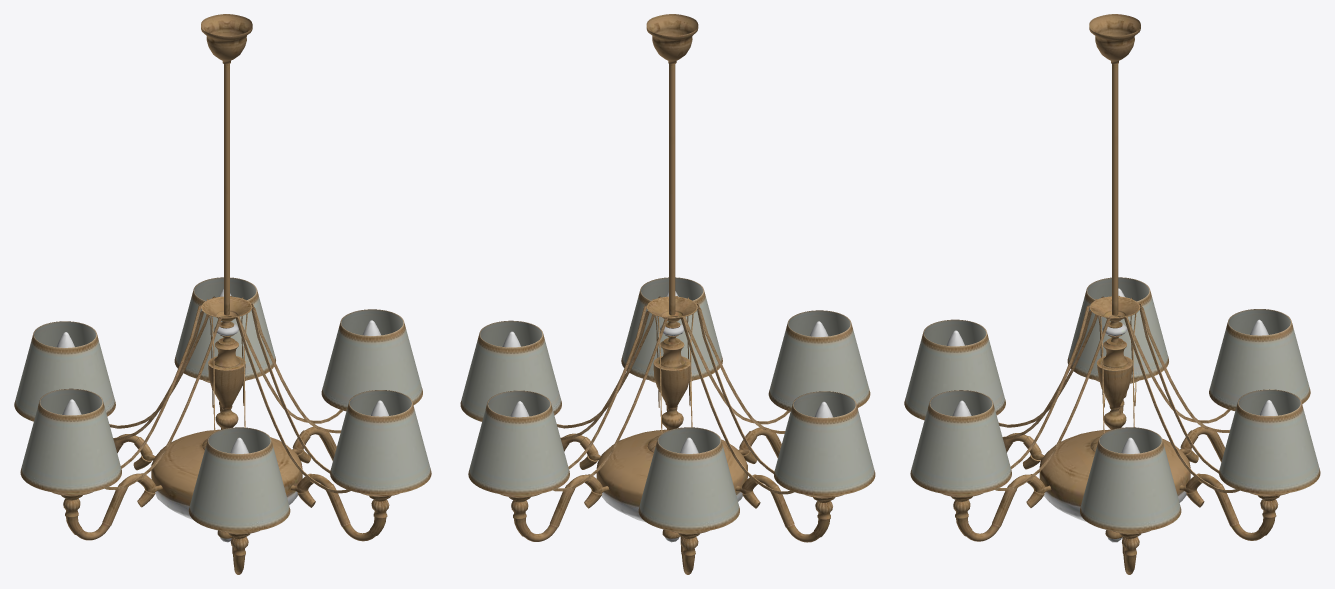
The picture shows the model from 3 angles, left to right: view 1: azimuth 30°, elevation 25°; view 2: azimuth 150°, elevation 25°; view 3: azimuth 270°, elevation 25°; orthographic projection.
Parts seen in each view (by area): view 1: Chandelier_02; view 2: Chandelier_02; view 3: Chandelier_02.
Part boxes in pixels (bbox=[...]): Chandelier_02: bbox=[14, 14, 431, 574]; Chandelier_02: bbox=[460, 14, 875, 574]; Chandelier_02: bbox=[904, 14, 1320, 574].
Size of the model in its own units: 0.679 by 0.8481 by 0.6191.
Materials: 2 (1 with a texture image).
